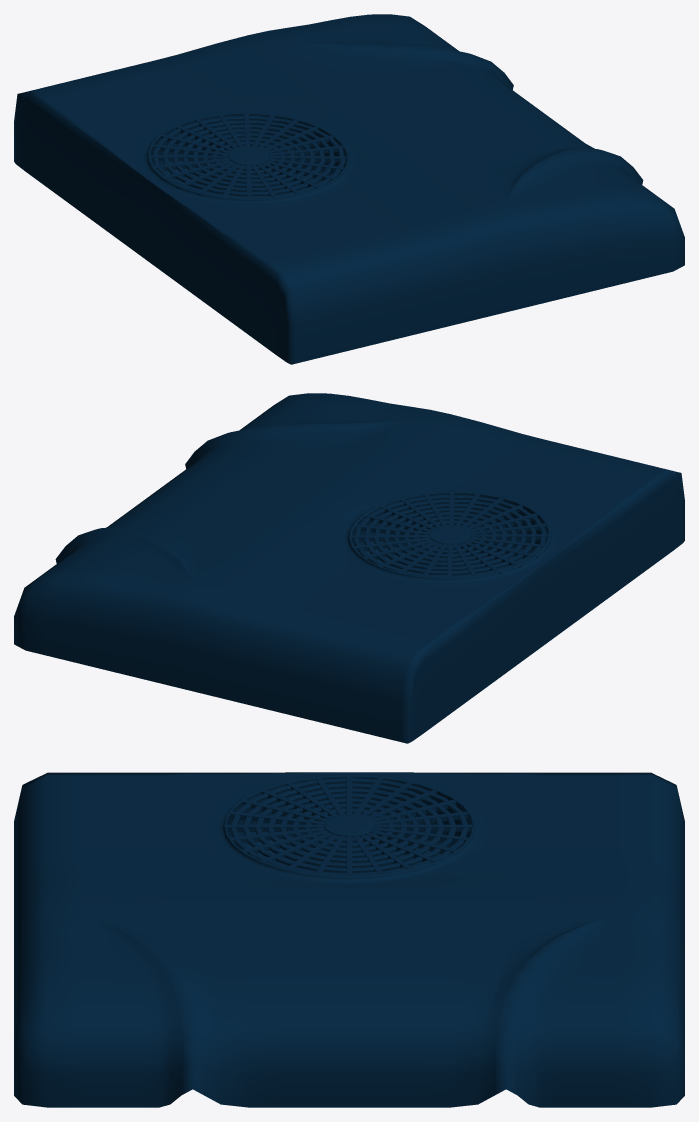
Rendered from airconditioner.glb.
3 views of the same model, one above another, from view 1: azimuth 30°, elevation 25°; view 2: azimuth 150°, elevation 25°; view 3: azimuth 270°, elevation 25° (orthographic). The views are drawn at different scales.
Parts seen in each view (by area): view 1: air_conditioner; view 2: air_conditioner; view 3: air_conditioner.
Boxes of the visible parts, <box> form: air_conditioner: <box>14,14,684,364</box>; air_conditioner: <box>14,393,684,743</box>; air_conditioner: <box>14,772,684,1107</box>.
Size of the model in its own units: 0.8036 by 0.1529 by 0.903.
